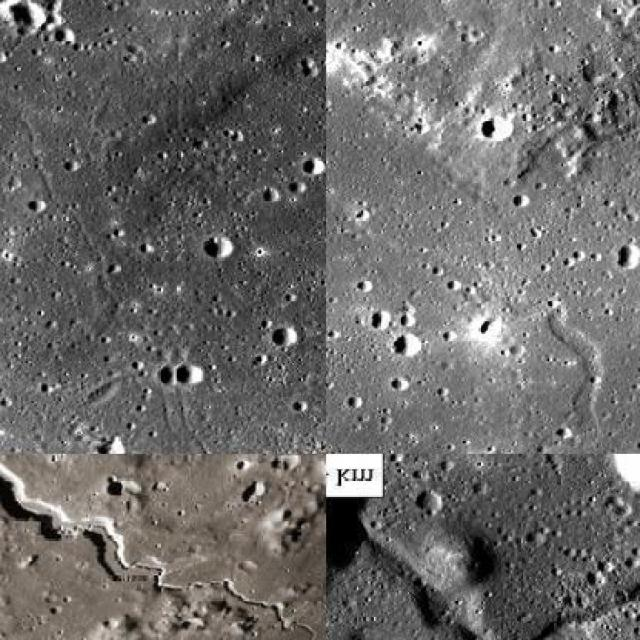rille: (326, 117, 614, 429), (0, 454, 320, 638), (326, 530, 639, 638), (19, 117, 123, 341)
